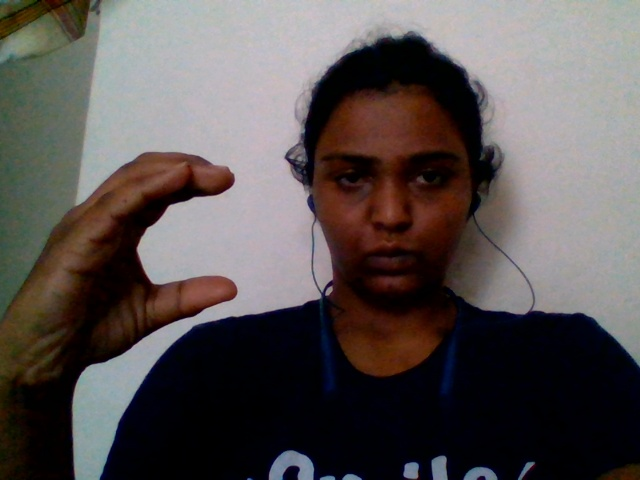No: (14, 123, 262, 381)
